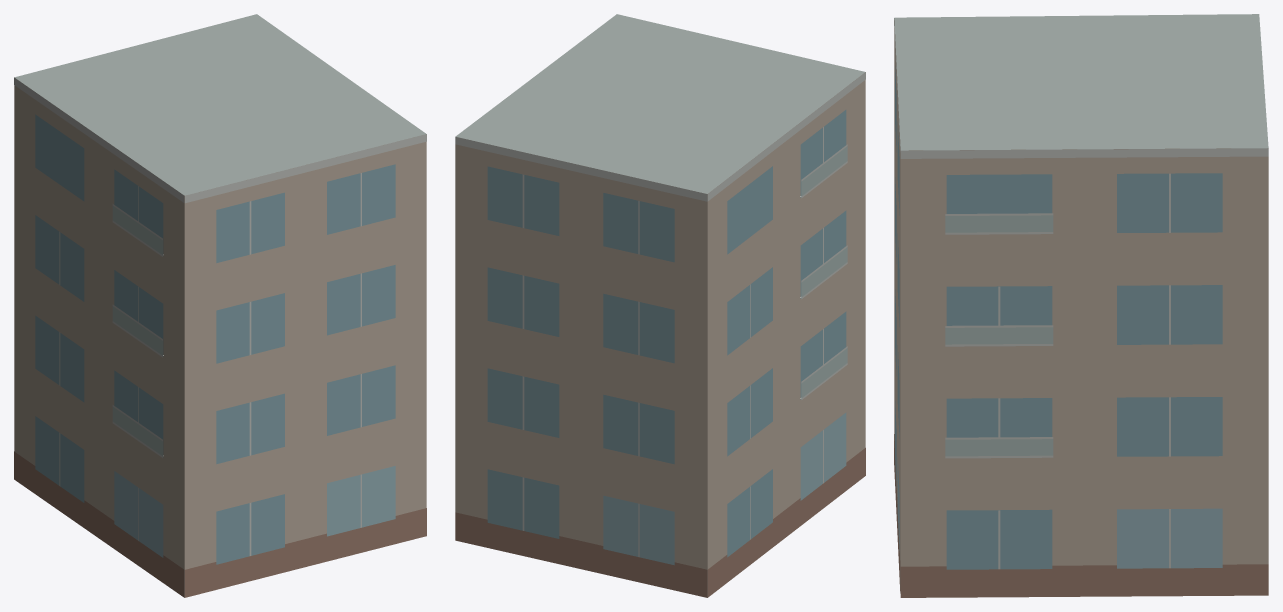
Rendered from survey-upis-32805373.glb.
3 views of the same model, side by side, from view 1: azimuth 30°, elevation 25°; view 2: azimuth 150°, elevation 25°; view 3: azimuth 270°, elevation 25° (orthographic). The views are drawn at different scales.
Parts seen in each view (by area): view 1: survey-upis-32805373.tmp; view 2: survey-upis-32805373.tmp; view 3: survey-upis-32805373.tmp.
Boxes of the visible parts, x1,y1,x2,y2 form: survey-upis-32805373.tmp: (14, 14, 426, 597); survey-upis-32805373.tmp: (455, 14, 865, 597); survey-upis-32805373.tmp: (894, 14, 1268, 597).
Size of the model in its own units: 8.47 by 12.9 by 9.79.
